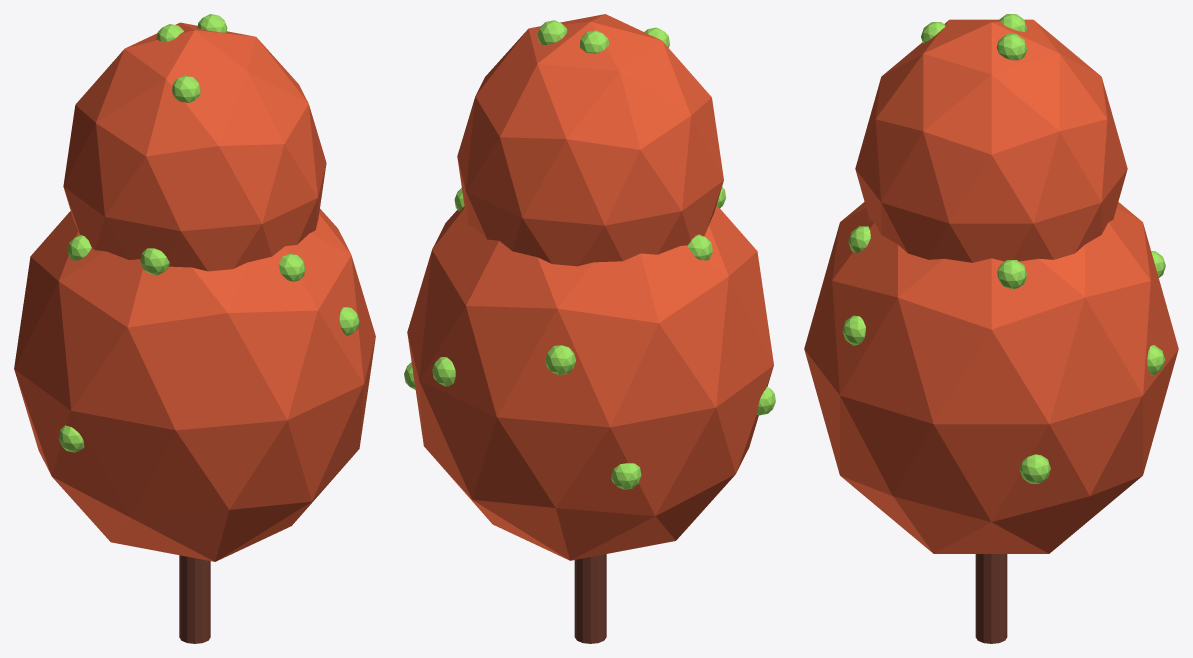
The model's file is PLATINHA1.fbx.
3 renders of one model, left to right at view 1: azimuth 30°, elevation 25°; view 2: azimuth 150°, elevation 25°; view 3: azimuth 270°, elevation 25°, orthographic.
Parts seen in each view (by area): view 1: Icosphere.010; view 2: Icosphere.010; view 3: Icosphere.010.
Boxes of the visible parts, x1,y1,x2,y2 form: Icosphere.010: (14, 14, 375, 643); Icosphere.010: (404, 14, 775, 643); Icosphere.010: (804, 14, 1178, 643).
Bounding box in the file's own units: 104 × 191 × 105.
